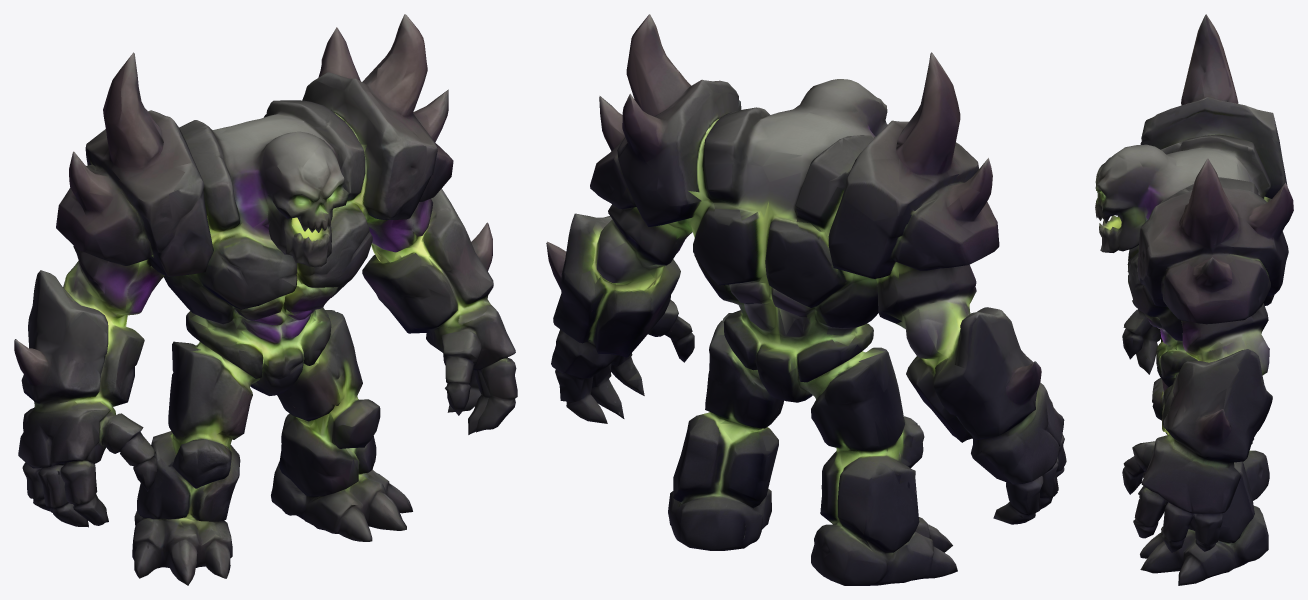
The model's file is stone_revenant.glb.
The picture shows the model from 3 angles, left to right: view 1: azimuth 30°, elevation 25°; view 2: azimuth 150°, elevation 25°; view 3: azimuth 270°, elevation 25°; orthographic projection. The views are drawn at different scales.
Visible parts, largest first — view 1: stone_revenant; view 2: stone_revenant; view 3: stone_revenant.
Part boxes in pixels (box(x1,y1,x2,y2)): stone_revenant: box(14, 14, 517, 585); stone_revenant: box(546, 14, 1066, 585); stone_revenant: box(1095, 14, 1293, 585).
Size of the model in its own units: 4.46 by 4.6 by 1.81.
Materials: 1 (1 with a texture image).
